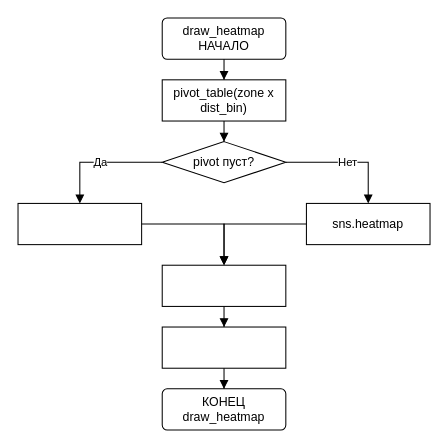
This 448x448 diagram has some shape labels left out. Each missing label, with the box of its shape:
canvas.draw_idle(): (161, 326, 286, 368)
Заголовок, оси: (161, 264, 286, 306)
Текст 'Нет данных': (17, 202, 142, 245)
